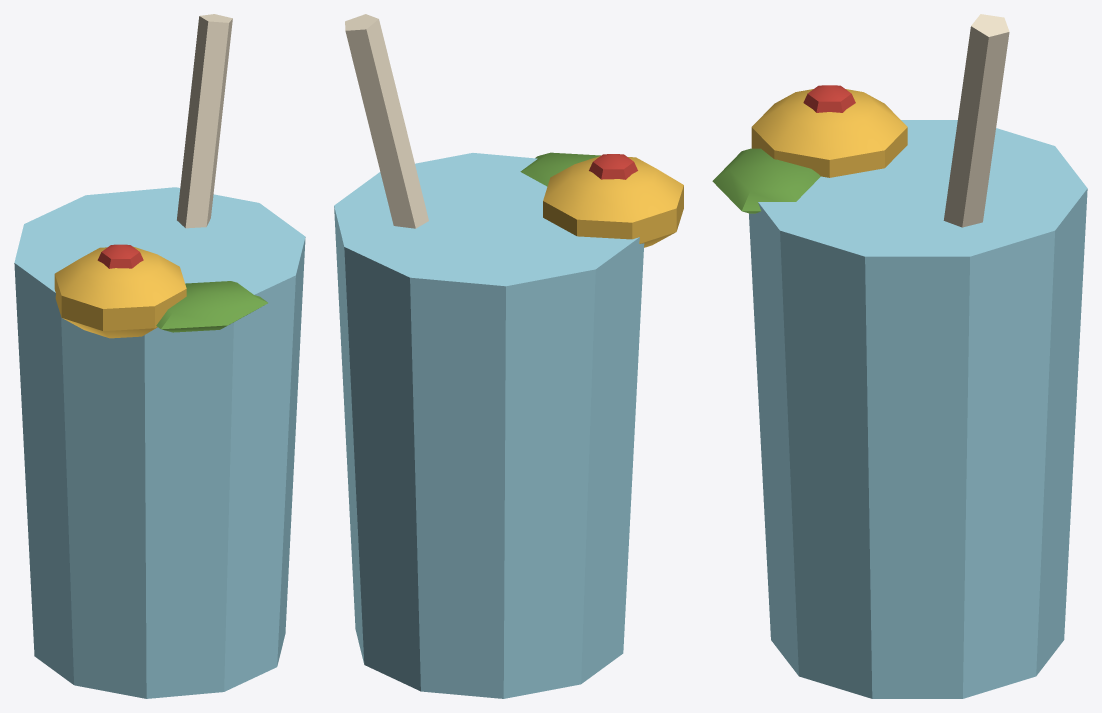
File: PR_Drink_CicekSerbeti.fbx
3 renders of one model, left to right at view 1: azimuth 30°, elevation 25°; view 2: azimuth 150°, elevation 25°; view 3: azimuth 270°, elevation 25°, orthographic. The views are drawn at different scales.
Visible parts, largest first — view 1: PR_Drink_CicekSerbeti; view 2: PR_Drink_CicekSerbeti; view 3: PR_Drink_CicekSerbeti.
Boxes of the visible parts, left/top/right/bottom form: PR_Drink_CicekSerbeti: left=14, top=14, right=305, bottom=698; PR_Drink_CicekSerbeti: left=334, top=14, right=683, bottom=698; PR_Drink_CicekSerbeti: left=712, top=14, right=1087, bottom=698.
Size of the model in its own units: 0.1168 by 0.2515 by 0.128.
Materials: 1 (1 with a texture image).
